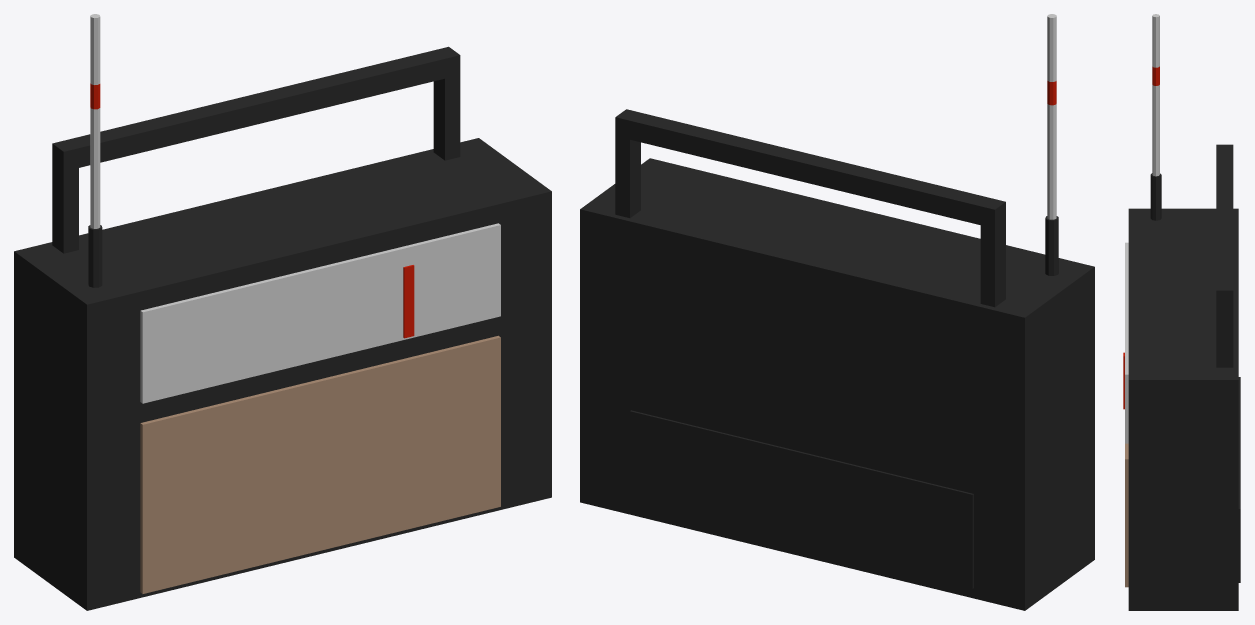
The model's file is Radio.fbx.
The picture shows the model from 3 angles, left to right: view 1: azimuth 30°, elevation 25°; view 2: azimuth 150°, elevation 25°; view 3: azimuth 270°, elevation 25°; orthographic projection. The views are drawn at different scales.
Visible parts, largest first — view 1: Cube.002; view 2: Cube.002; view 3: Cube.002.
Boxes of the visible parts, x1,y1,x2,y2 form: Cube.002: [14, 14, 551, 610]; Cube.002: [580, 14, 1094, 610]; Cube.002: [1123, 14, 1240, 610].
Bounding box in the file's own units: 54.97 × 15.93 × 64.99.
